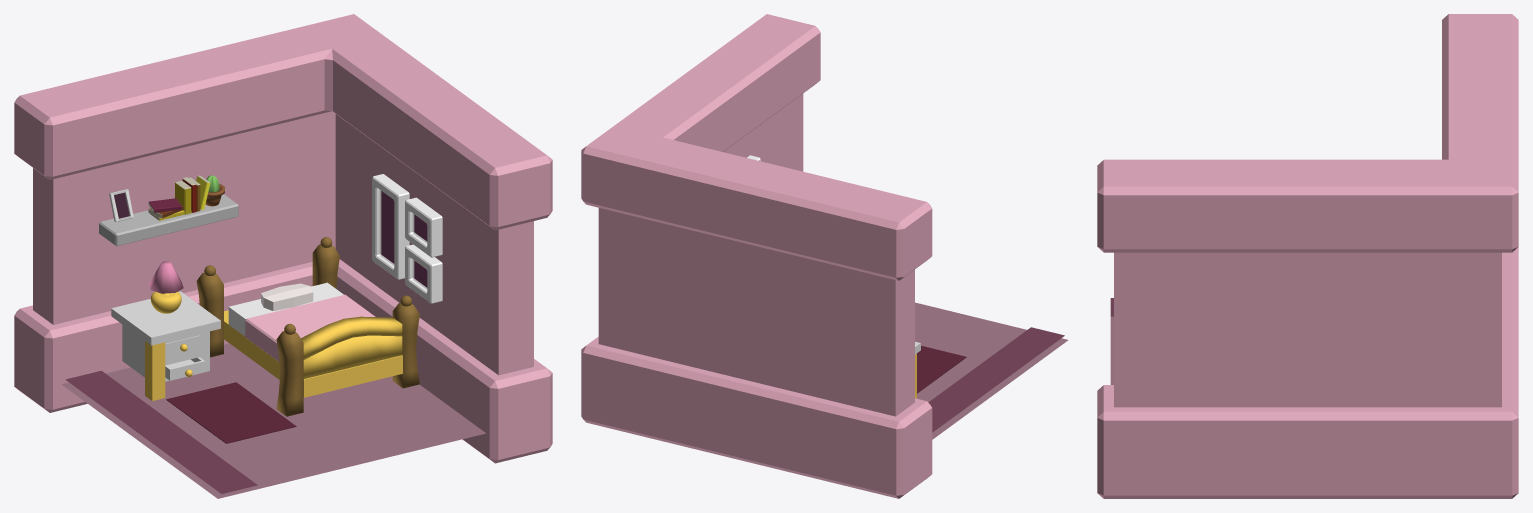
File: bedroom.glb
The picture shows the model from 3 angles, left to right: view 1: azimuth 30°, elevation 25°; view 2: azimuth 150°, elevation 25°; view 3: azimuth 270°, elevation 25°; orthographic projection. The views are drawn at different scales.
Visible parts, largest first — view 1: Cube, Plane, Cube.013, Plane.011, Plane.001, Plane.003, Plane.013, Plane.009, Plane.002, Cube.002, Plane.004, Plane.007 (+7 smaller); view 2: Cube, Plane, Plane.001, Plane.013; view 3: Cube.
Part boxes in pixels (x1,y1,x2,y2): Cube: (14,14,552,463); Plane: (62,343,485,498); Cube.013: (372,174,442,303); Plane.011: (111,291,220,381); Plane.001: (65,370,257,493); Plane.003: (301,316,402,378); Plane.013: (166,382,296,443); Plane.009: (245,294,375,361); Plane.002: (224,310,402,397); Cube.002: (99,194,238,246); Plane.004: (276,324,303,416); Plane.007: (392,295,419,388); Cube: (581,14,932,498); Plane: (915,302,1068,439); Plane.001: (928,327,1064,432); Plane.013: (917,345,966,393); Cube: (1097,14,1518,498).
Size of what is drawn, in the model's own units: 2.45 by 2 by 2.45.
